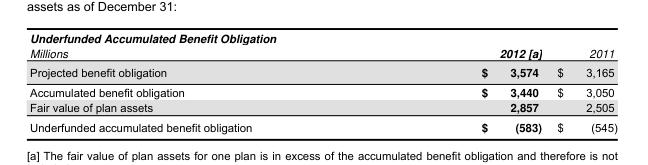table: (29, 29, 616, 134)
table column: (29, 29, 378, 134), (378, 29, 548, 134), (548, 29, 616, 134)
table column header: (29, 29, 616, 61)
table row: (29, 29, 616, 61), (29, 61, 616, 81), (29, 98, 616, 116), (29, 116, 616, 134), (29, 81, 616, 98)
